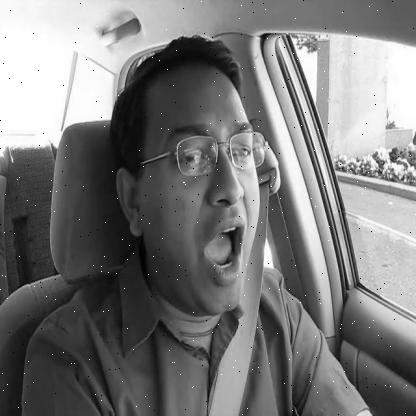seatbelt: (107, 23, 293, 416)
